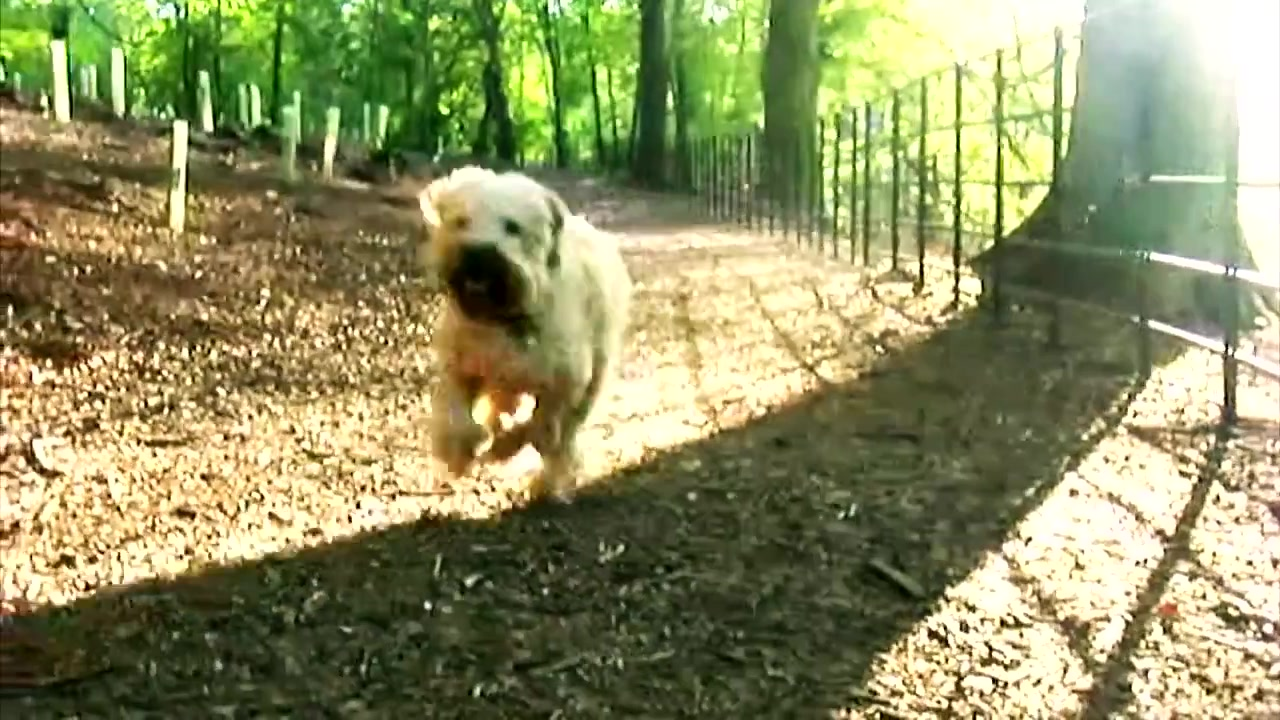dog: (413, 157, 636, 508)
